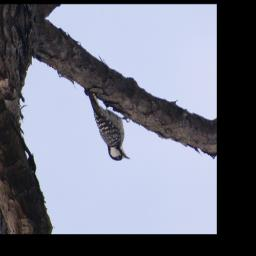Woodpecker: (80, 80, 135, 169)
